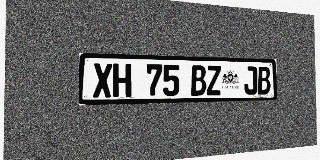5: (163, 65, 179, 96)
7: (145, 64, 162, 97)
B: (191, 65, 206, 96), (257, 66, 270, 94)
H: (113, 63, 131, 97)
J: (244, 66, 257, 95)
X: (93, 63, 112, 98)
Z: (206, 65, 221, 95)
